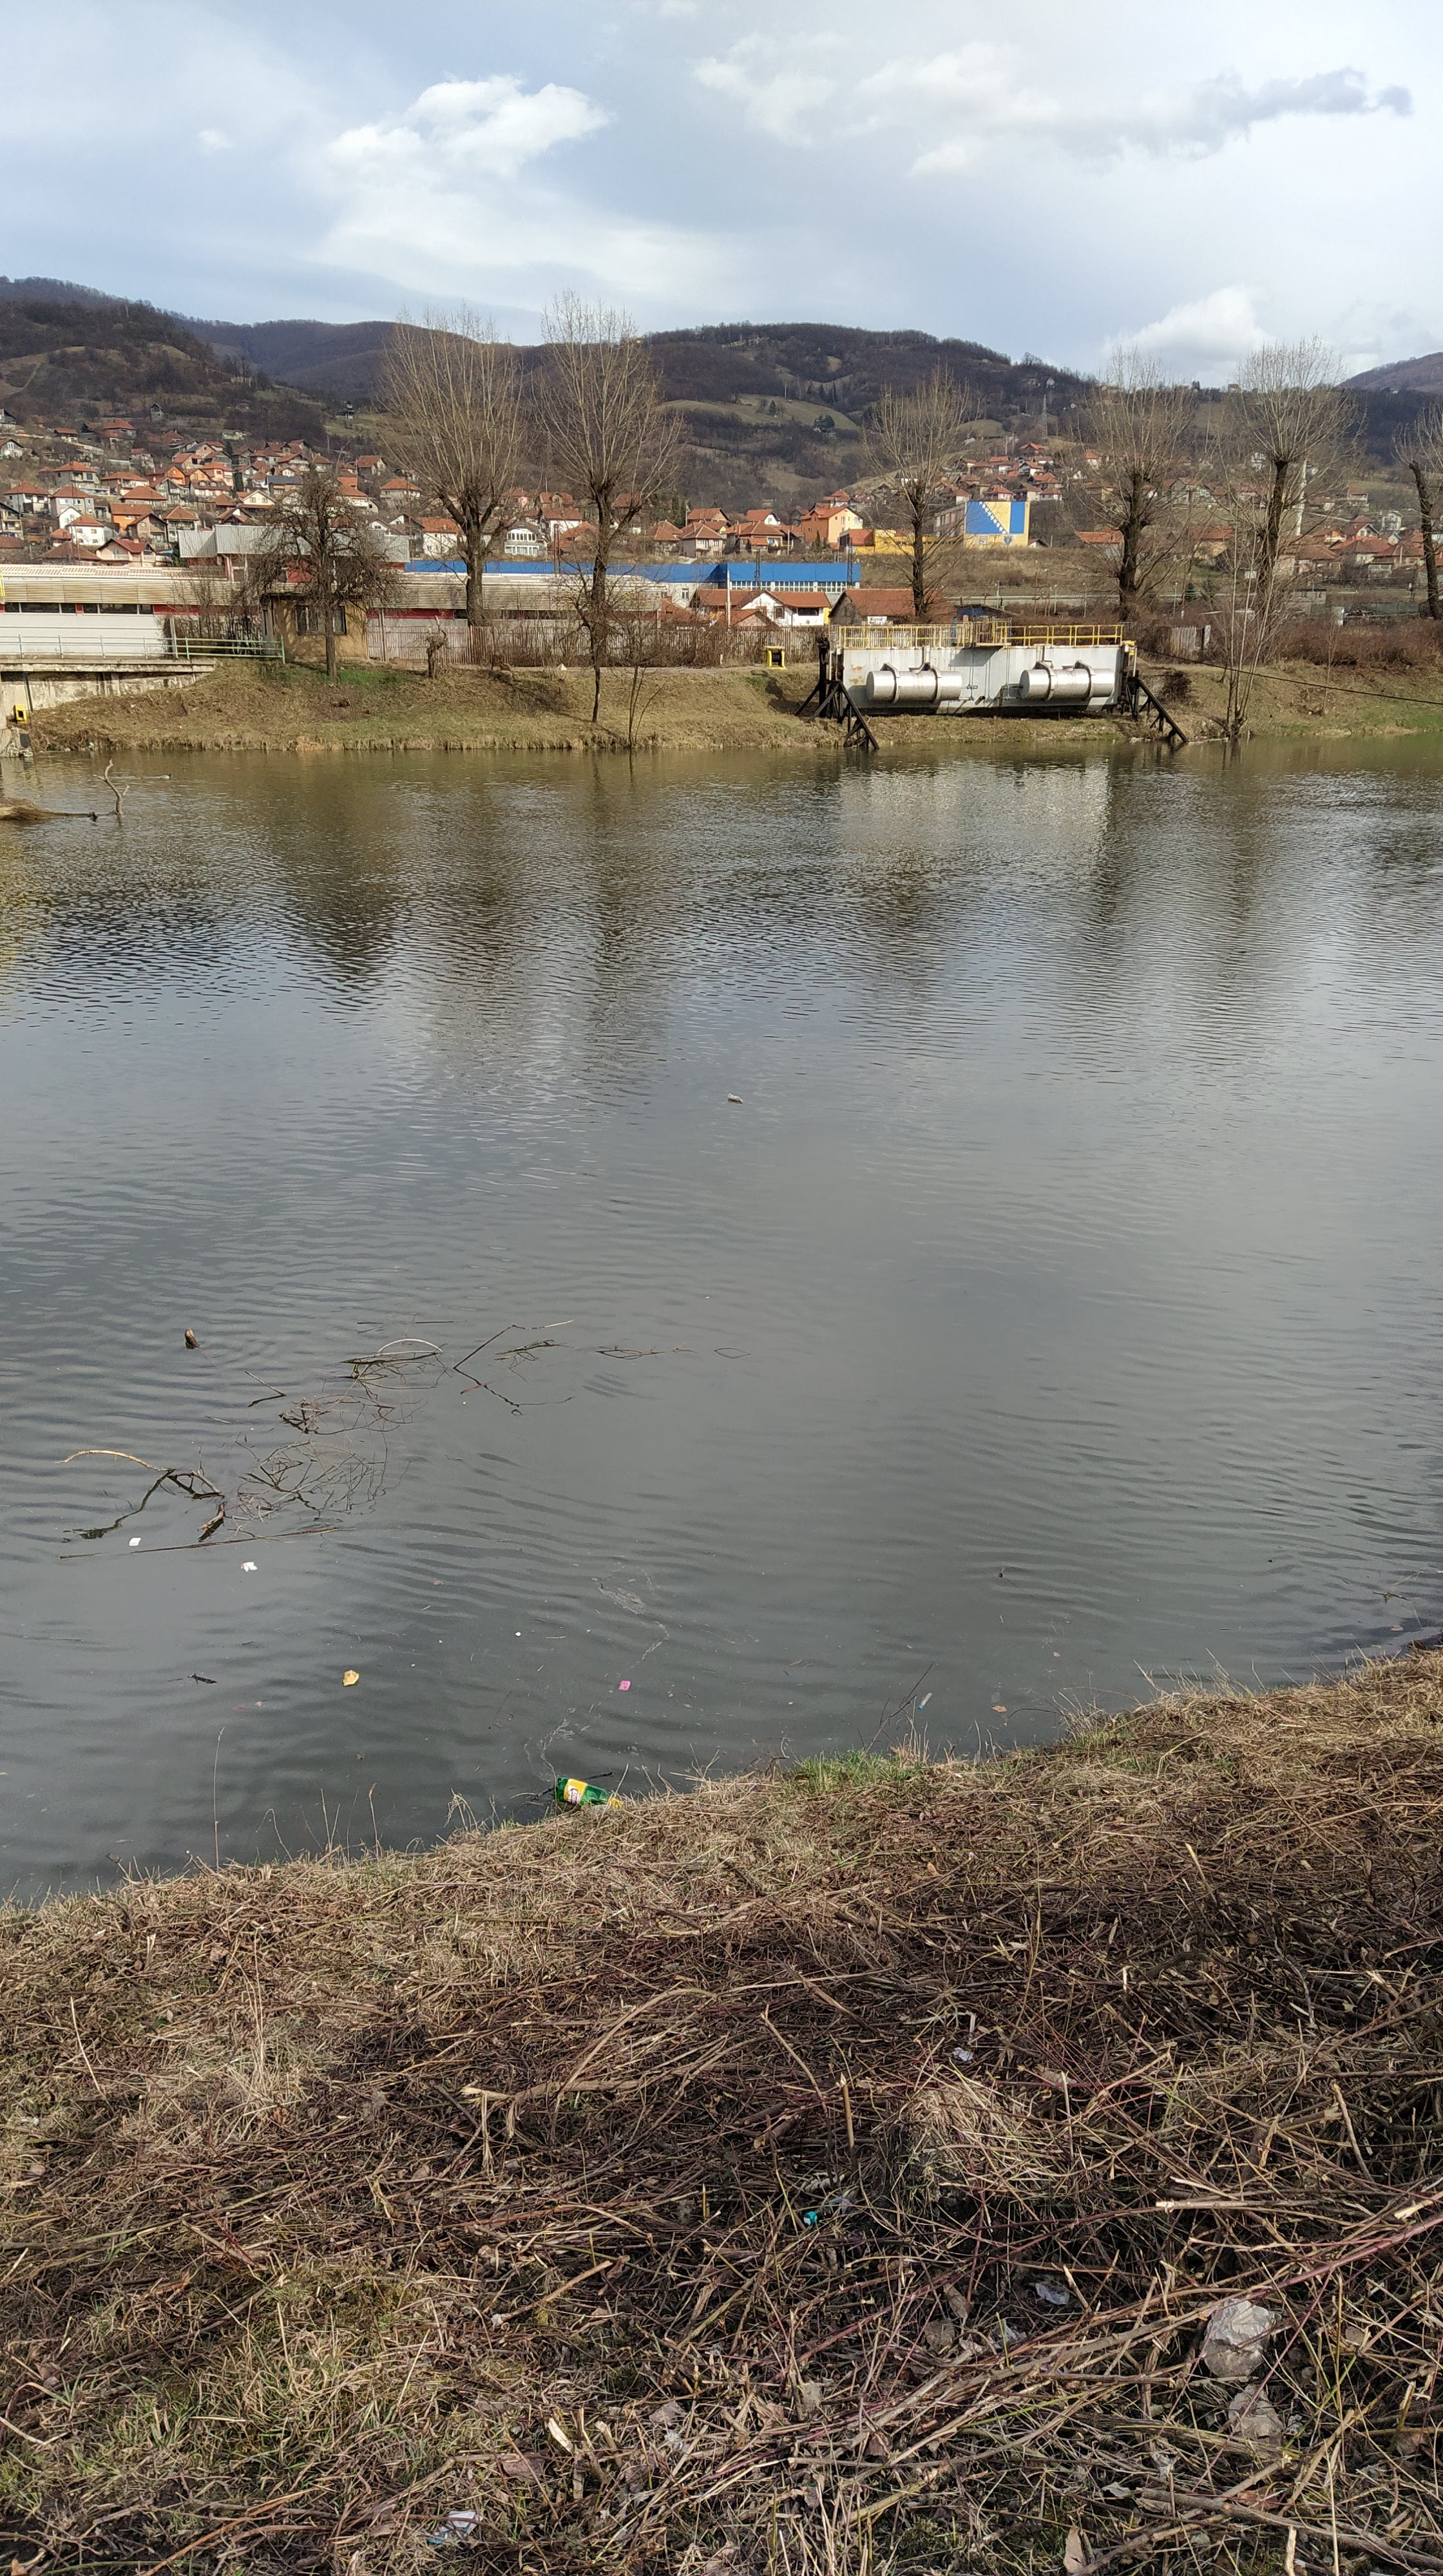Plastic Bottle: (554, 1778, 623, 1805), (579, 1805, 611, 1812), (728, 1093, 744, 1104)
